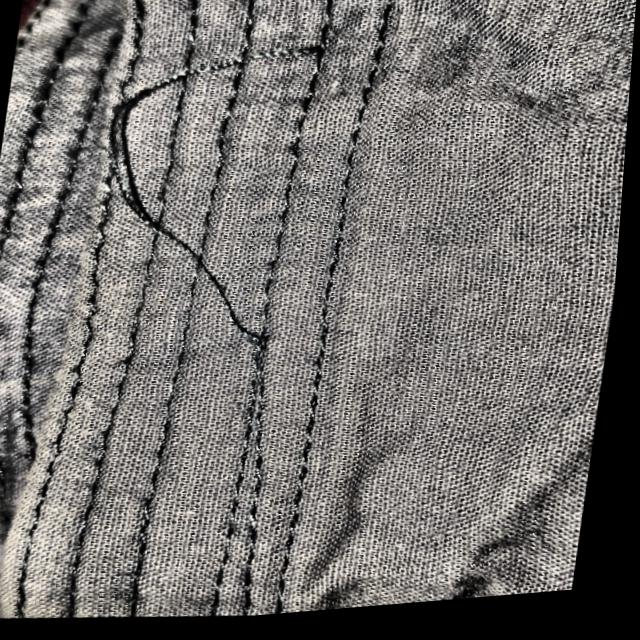Stitch: (51, 0, 365, 395)
